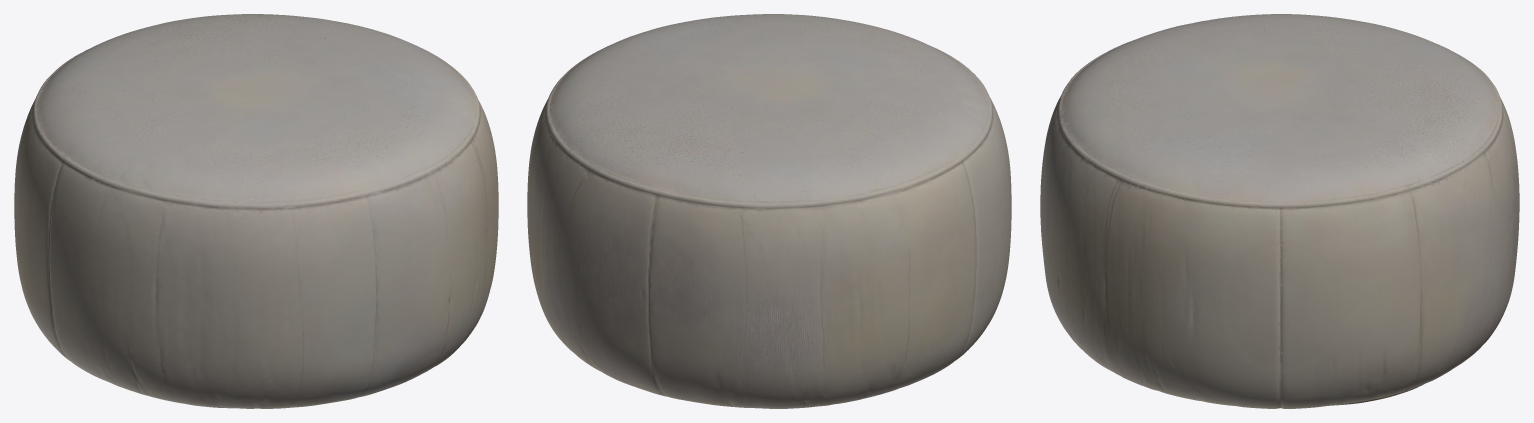
File: pouf.glb
3 views of the same model, side by side, from view 1: azimuth 30°, elevation 25°; view 2: azimuth 150°, elevation 25°; view 3: azimuth 270°, elevation 25° (orthographic).
Parts seen in each view (by area): view 1: tripo_node_770f141d-66d6-47ae-90c2-a763d520a520; view 2: tripo_node_770f141d-66d6-47ae-90c2-a763d520a520; view 3: tripo_node_770f141d-66d6-47ae-90c2-a763d520a520.
Boxes of the visible parts, box(x1,y1,x2,y2) form: tripo_node_770f141d-66d6-47ae-90c2-a763d520a520: box(14, 14, 498, 408); tripo_node_770f141d-66d6-47ae-90c2-a763d520a520: box(527, 14, 1011, 408); tripo_node_770f141d-66d6-47ae-90c2-a763d520a520: box(1040, 14, 1519, 408).
Bounding box in the file's own units: 0.9993 × 0.5957 × 0.9999.
1 material, 1 textured.
